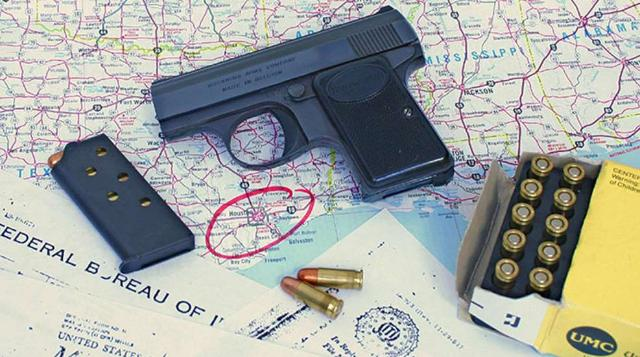handgun: (146, 5, 458, 207)
